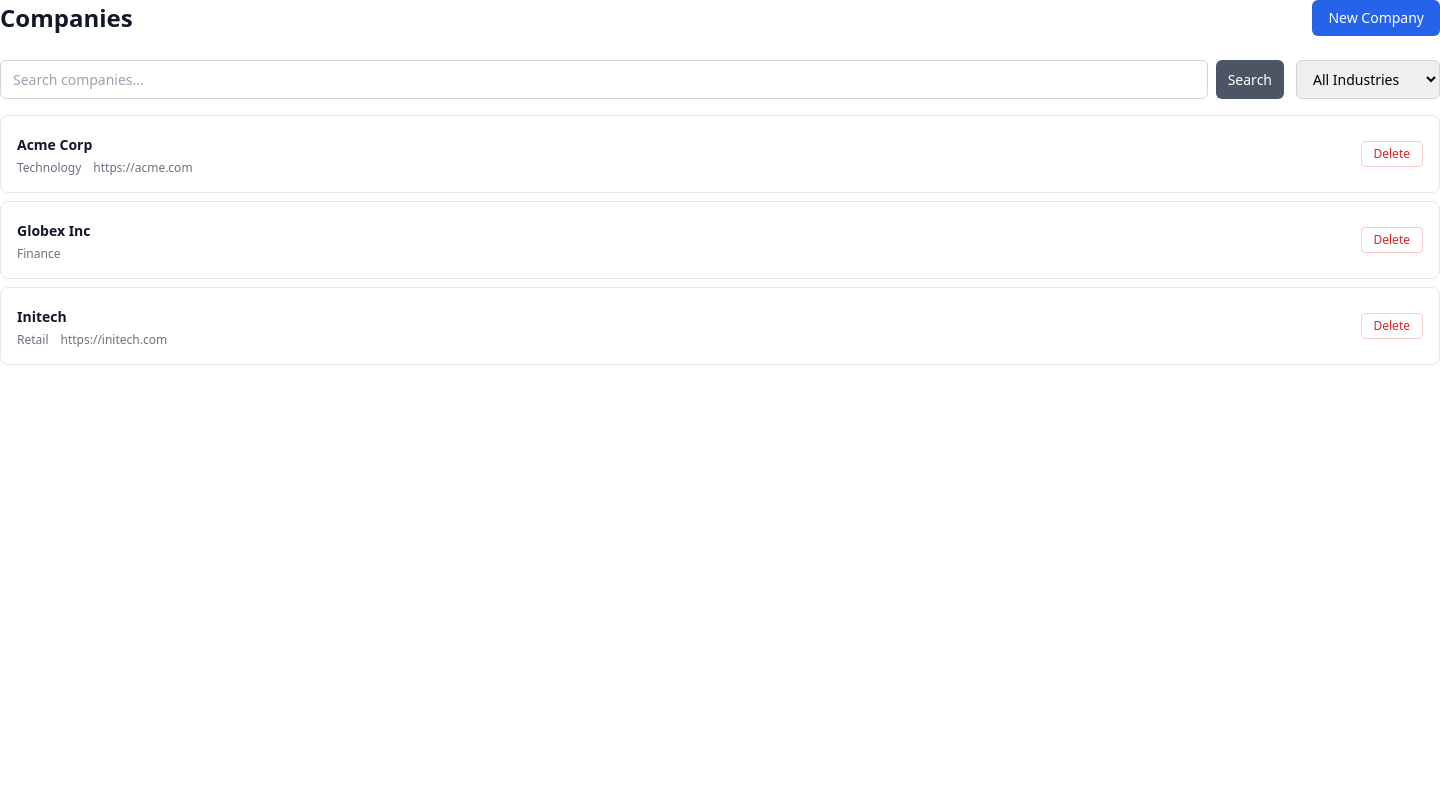
Test: CompaniesPage — new company form › clicking "New Company" shows the form
Expected: the link "Acme Corp" is shown, [17,135,92,154]
Click the button "New Company" at point(1376, 18), box [1312,0,1439,36]
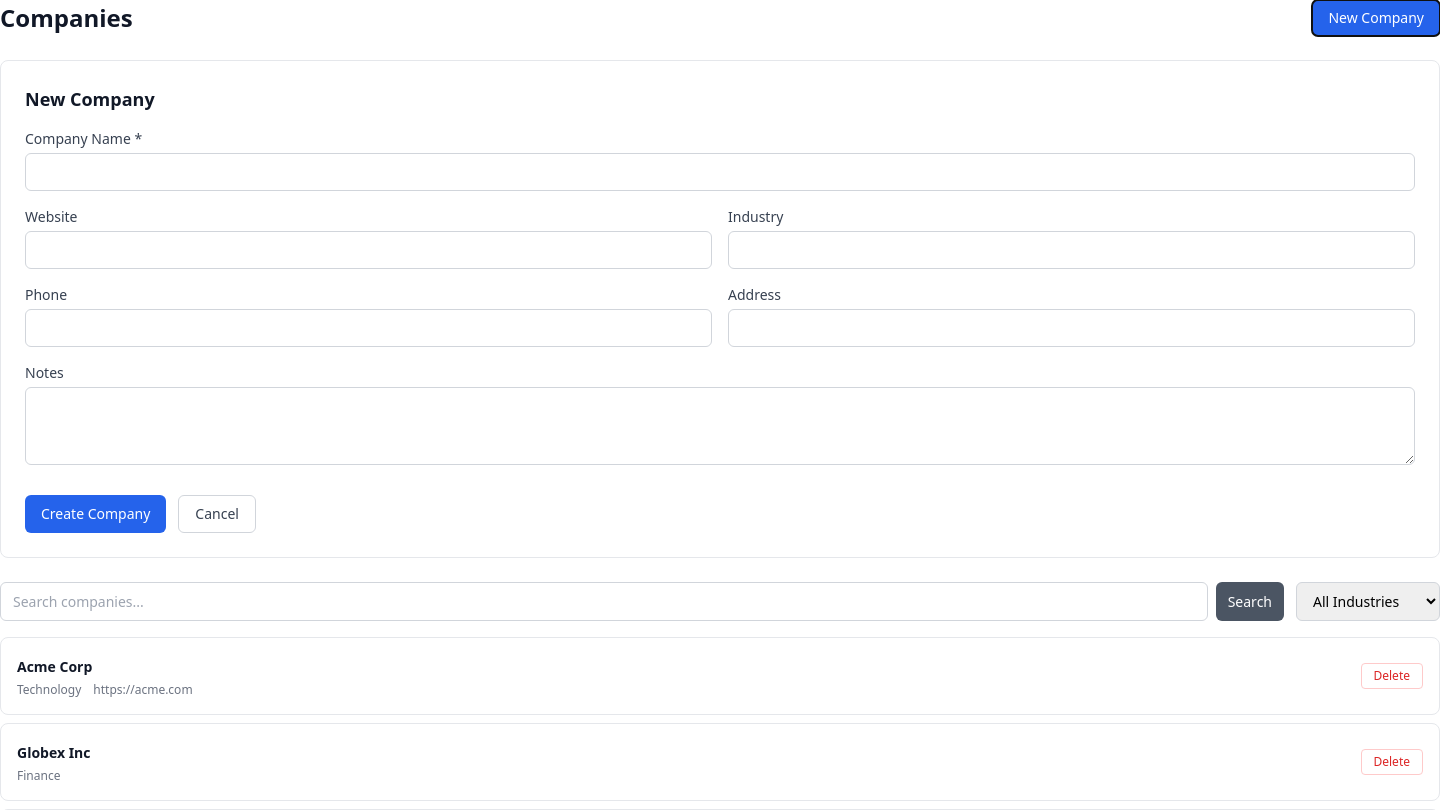
Now the button "Create Company" is shown, box [25,495,166,533]
Now the field labelled "Company Name *" is shown, box [25,153,1415,191]
